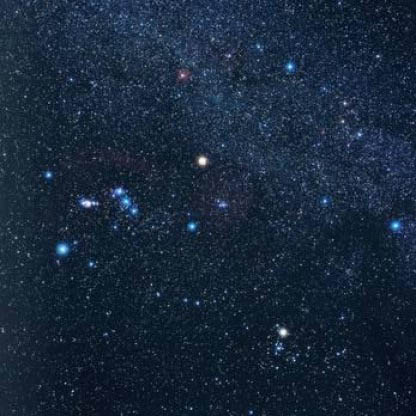Orion: (46, 238, 73, 264), (193, 149, 214, 173), (180, 218, 201, 239), (36, 164, 54, 181), (108, 183, 131, 196), (116, 196, 136, 207), (125, 208, 142, 218)
